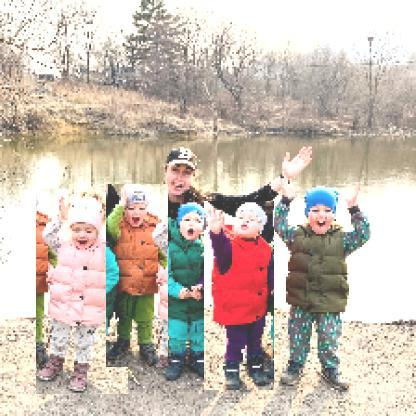child: (271, 177, 373, 393), (37, 191, 130, 397), (205, 202, 276, 392), (107, 186, 170, 370), (157, 203, 212, 383)
